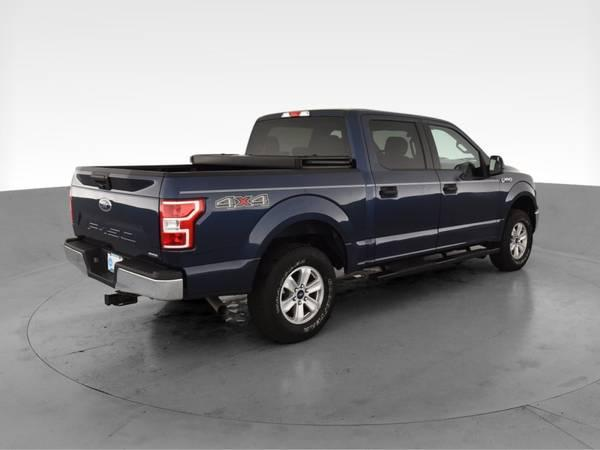Front_Fender: (493, 166, 538, 240)
Front_Right_Door: (440, 171, 501, 250)
Front_Right_Window: (420, 122, 492, 172)
Rear_Bumper: (67, 239, 187, 304)
Rear_Fender: (160, 168, 371, 295)
Rear_Right_Door: (366, 171, 442, 266)
Rear_Right_Window: (367, 116, 429, 170)
Rear_Windshield: (242, 110, 347, 162)
Right_Taillight: (158, 200, 207, 254)
Roof: (341, 107, 495, 169)
Tailgate: (69, 167, 164, 260)
Wheel: (256, 243, 339, 343), (490, 208, 534, 270)
